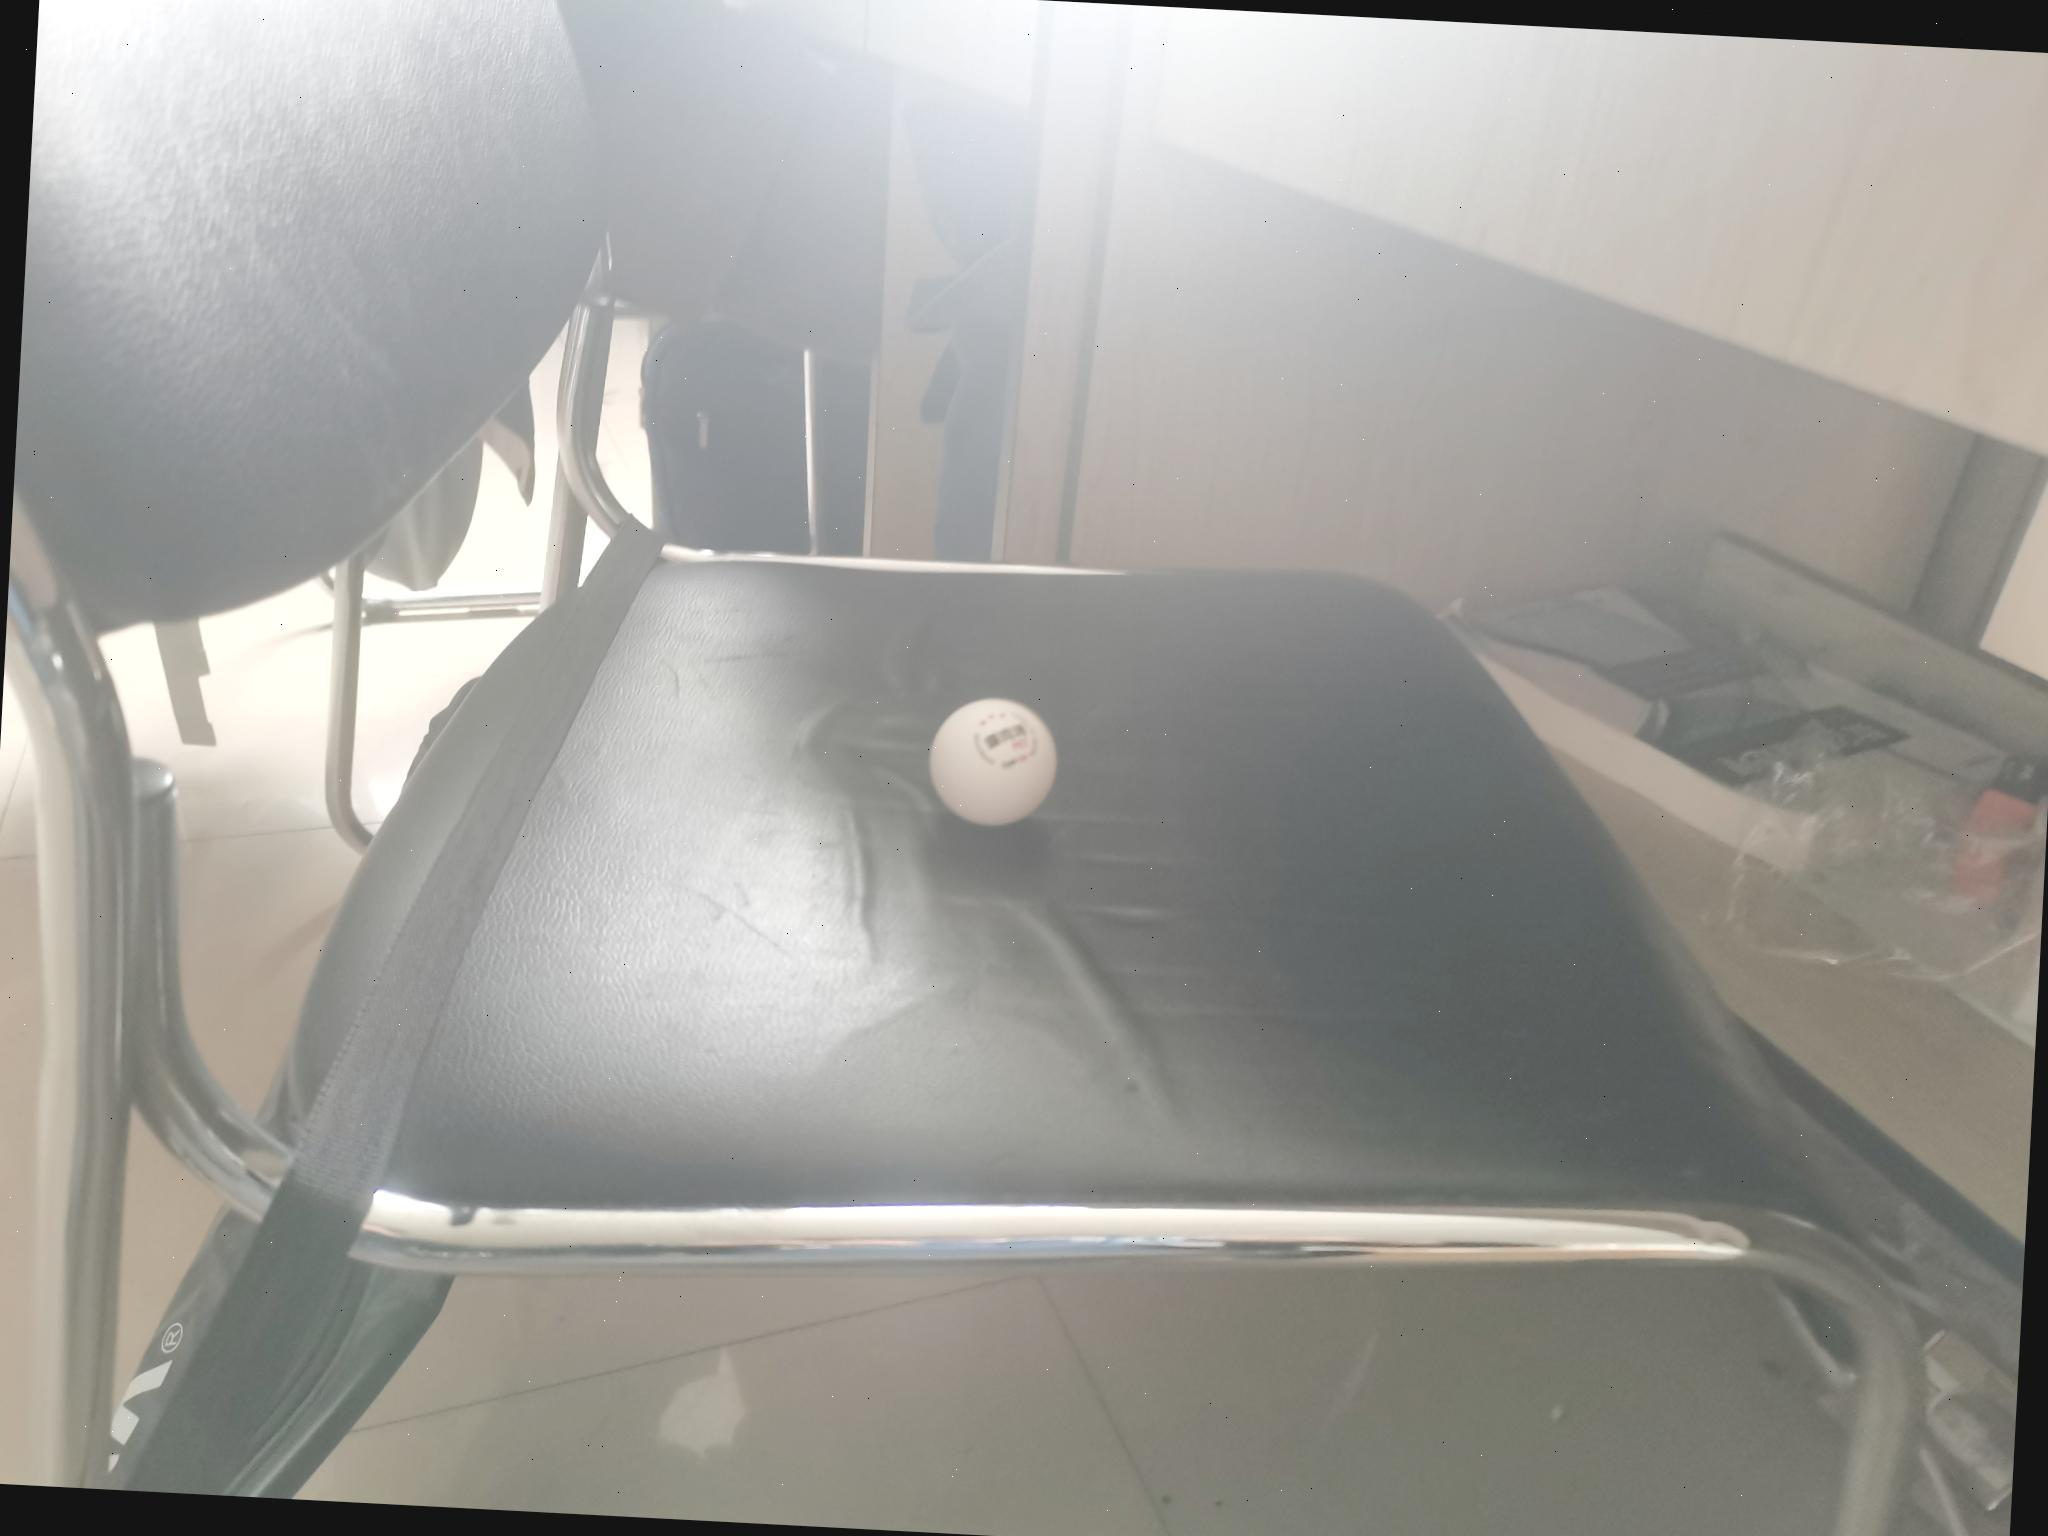ball: (922, 694, 1063, 829)
